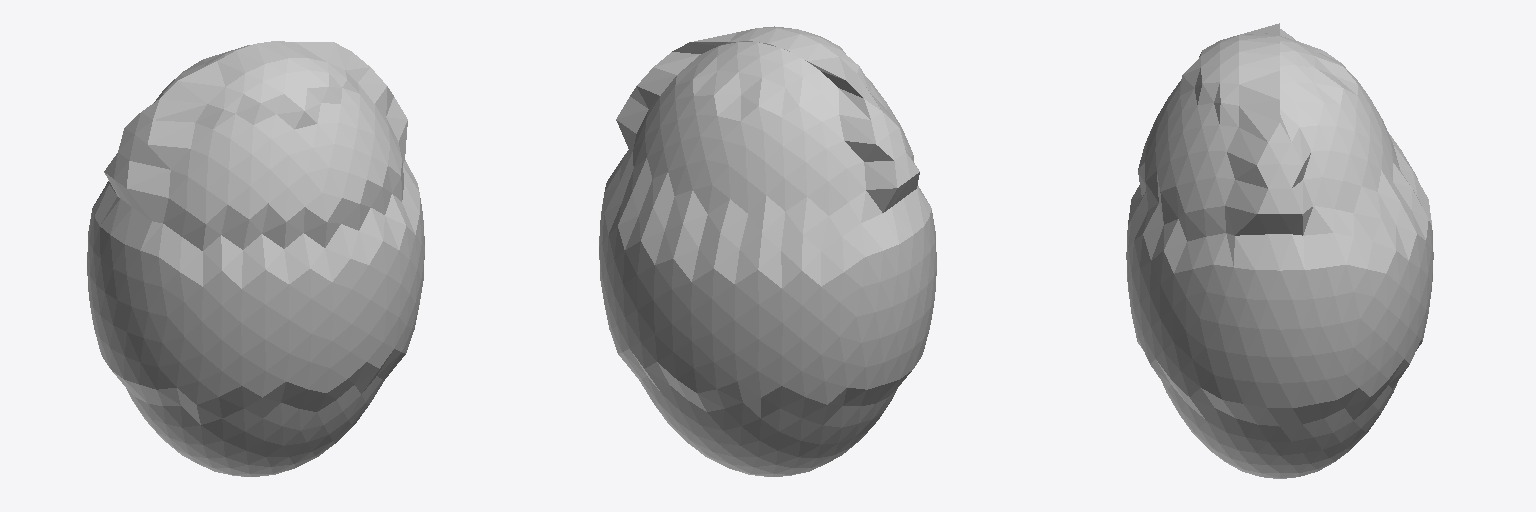
Rendered from muscular_after.obj.
3 renders of one model, left to right at view 1: azimuth 30°, elevation 25°; view 2: azimuth 150°, elevation 25°; view 3: azimuth 270°, elevation 25°, orthographic.
Size of the model in its own units: 1.28 by 1.72 by 1.13.